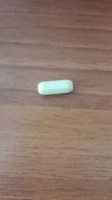Aferin: (36, 79, 74, 96)
